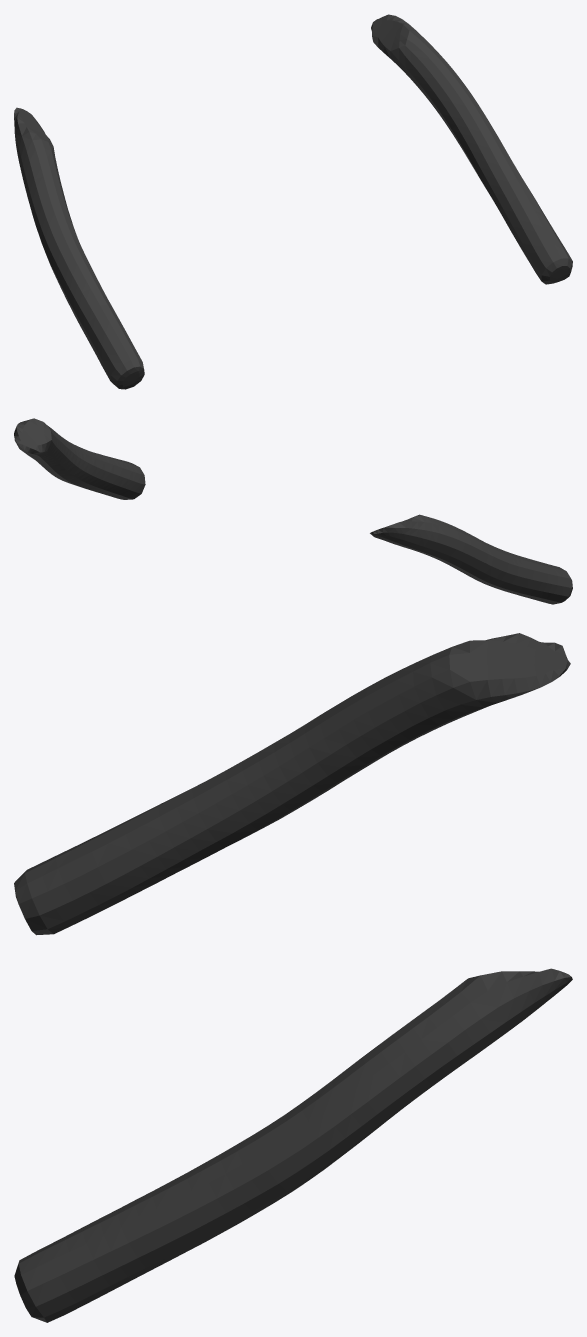
3 renders of one model, top to bottom at view 1: azimuth 30°, elevation 25°; view 2: azimuth 150°, elevation 25°; view 3: azimuth 270°, elevation 25°, orthographic. The views are drawn at different scales.
Parts seen in each view (by area): view 1: CN6_low_CN6_low; view 2: CN6_low_CN6_low; view 3: CN6_low_CN6_low.
Boxes of the visible parts, x1,y1,x2,y2 form: CN6_low_CN6_low: (14,14,572,389); CN6_low_CN6_low: (14,418,572,604); CN6_low_CN6_low: (14,633,572,1322).
Size of the model in its own units: 10.03 by 3.67 by 5.7.
Materials: 1 (1 with a texture image).
